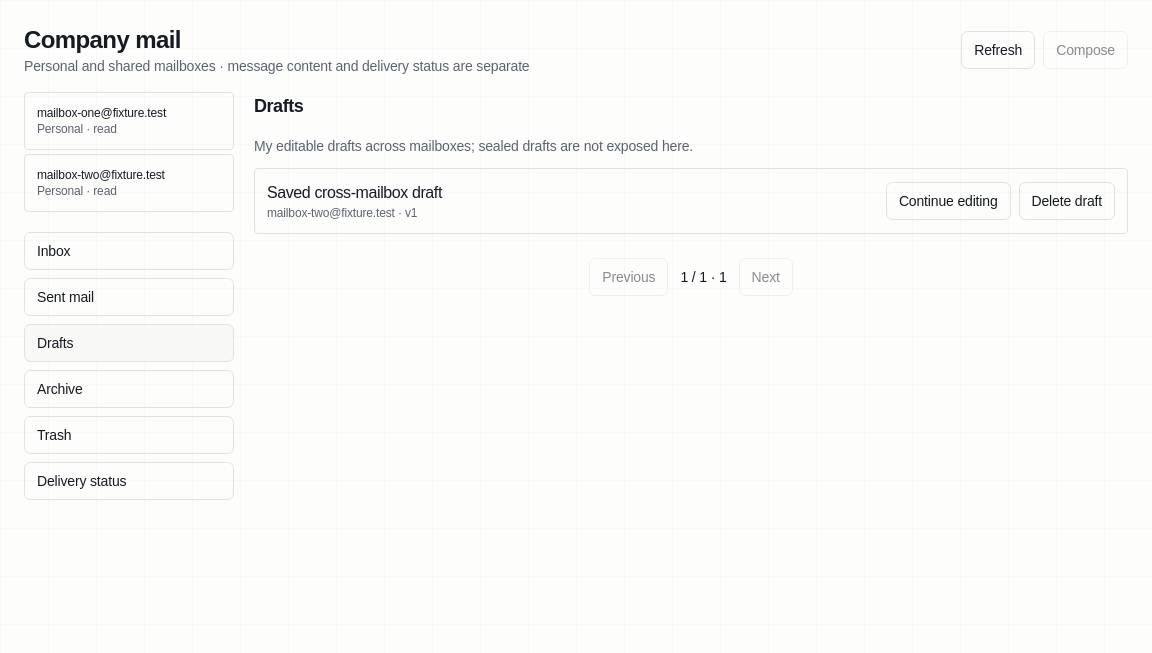
Test: explicit mailbox route recovery › R16 preserves cross-mailbox drafts and explicitly opening one
The image size is (1152, 653).
Check: the button "mailbox-one@fixture.test Personal · read" is shown, box [24,92,234,150]
Click the button "Continue editing".
click(948, 201)  # box [886,182,1010,220]
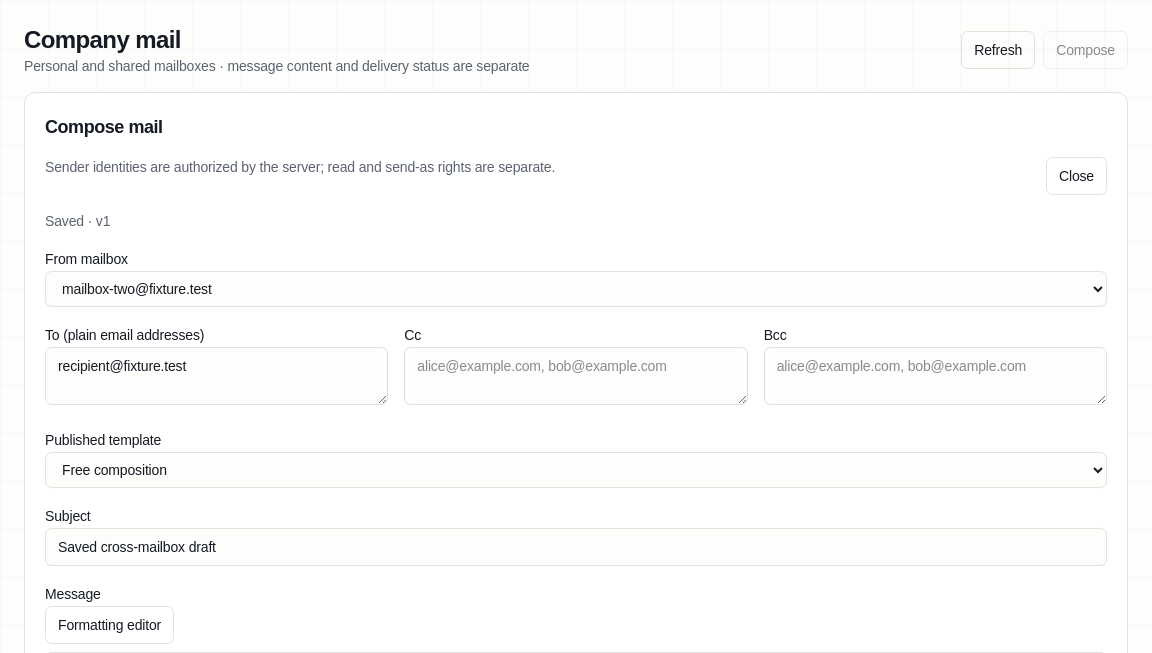
Check: the field labelled "Subject" holds "Saved cross-mailbox draft", box [45,528,1107,566]
Check: the dropdown labelled "From mailbox" shows "mailbox-two@fixture.test", box [45,271,1107,307]
